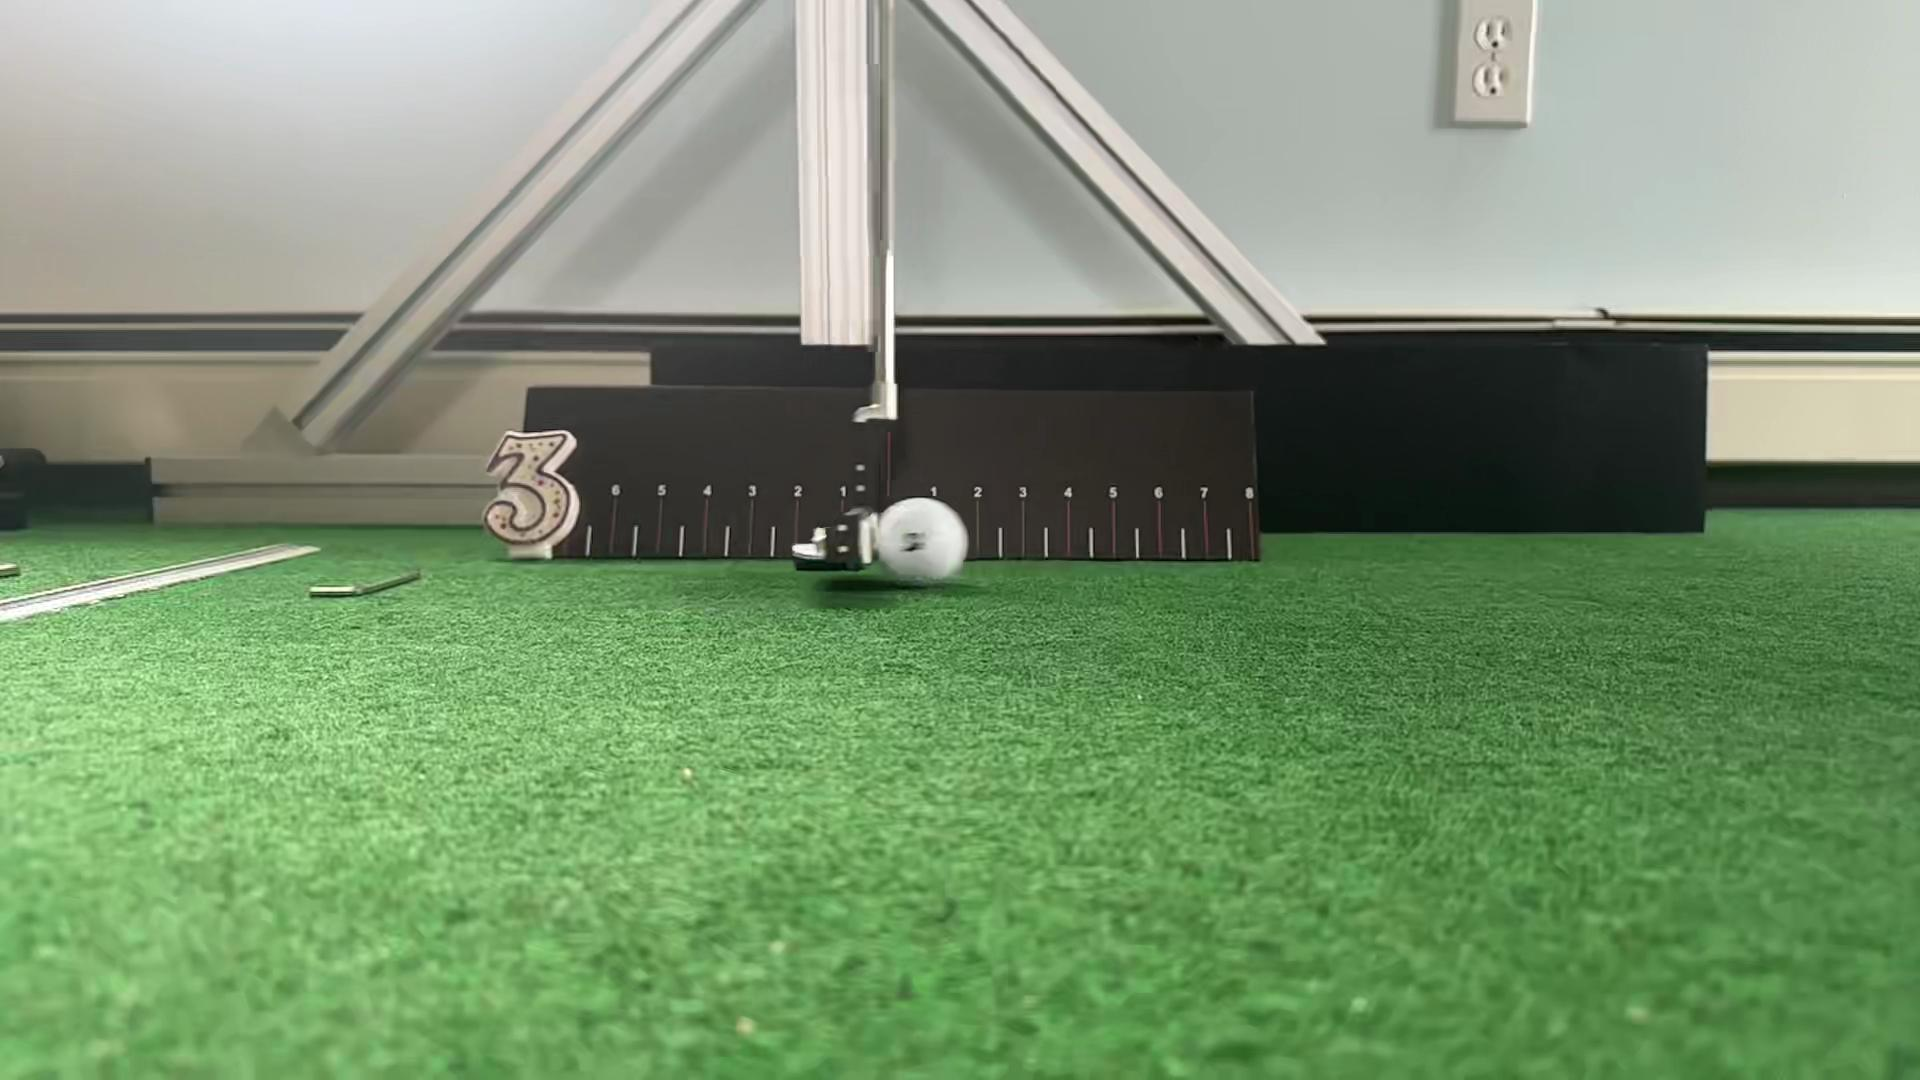golfball: (876, 499, 968, 585)
